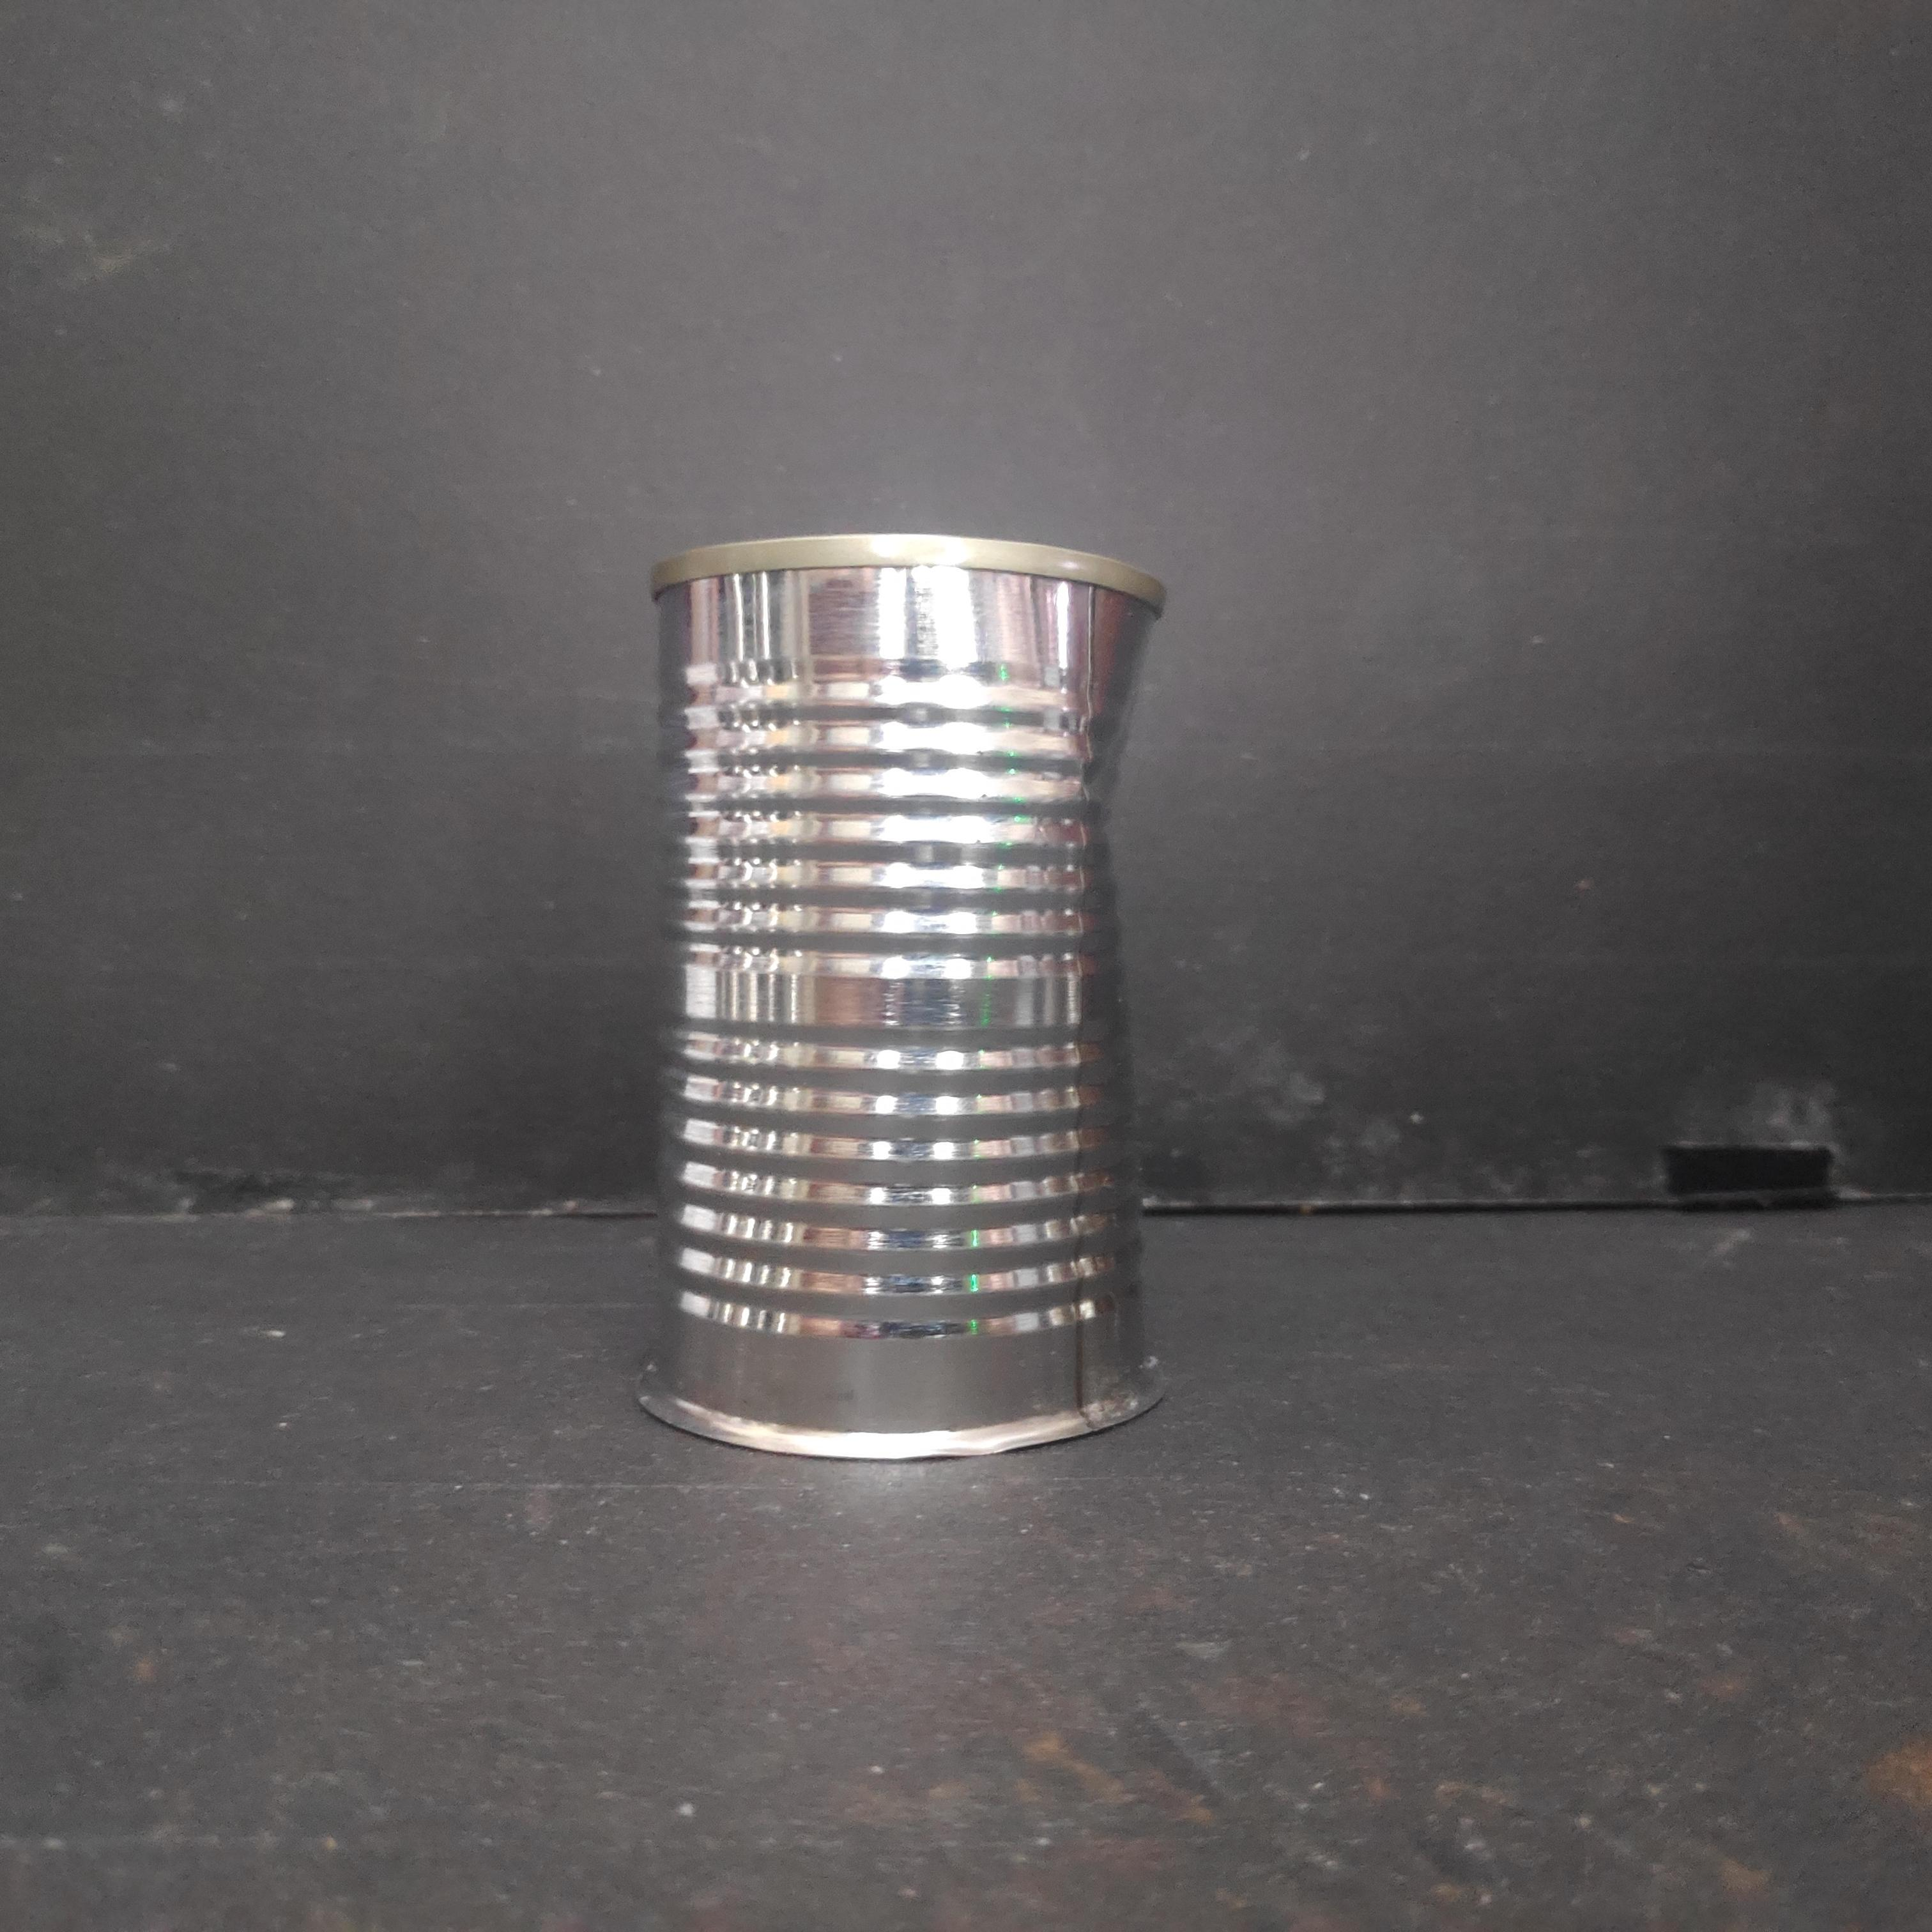Minor Defect: (633, 515, 1171, 1476)
